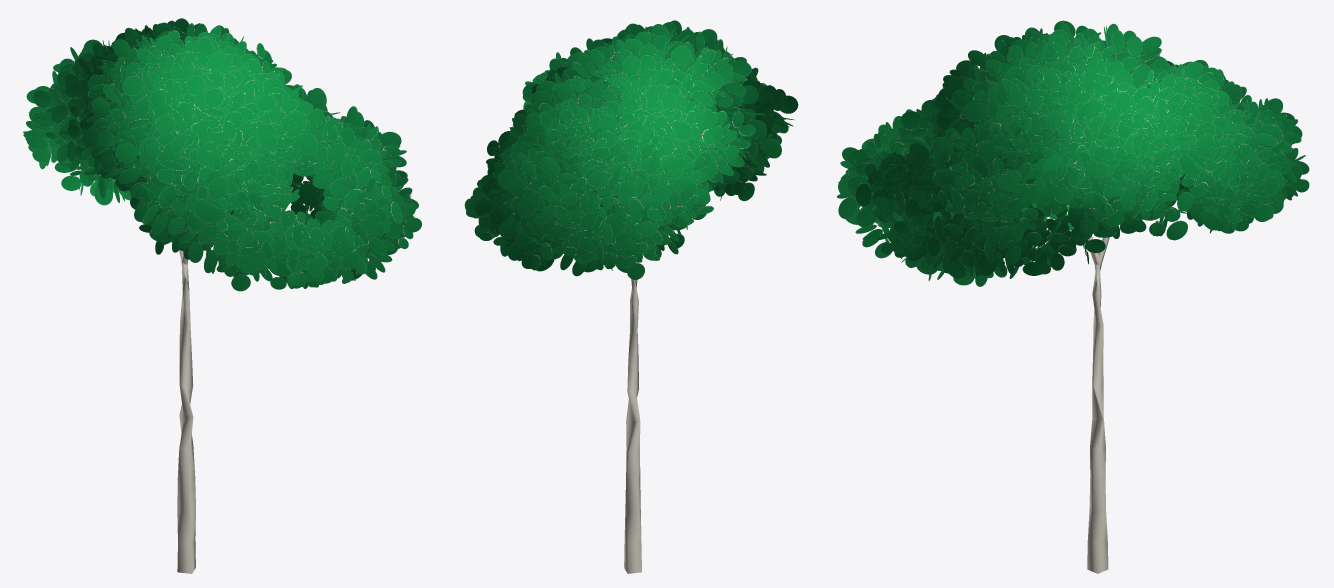
File: Tree-2.fbx
The picture shows the model from 3 angles, left to right: view 1: azimuth 30°, elevation 25°; view 2: azimuth 150°, elevation 25°; view 3: azimuth 270°, elevation 25°; orthographic projection. The views are drawn at different scales.
Visible parts, largest first — view 1: Leaves, Trunk; view 2: Leaves, Trunk; view 3: Leaves, Trunk.
Part boxes in pixels (x1,y1,x2,y2): Leaves: (23,18,421,291); Trunk: (177,250,195,573); Leaves: (464,20,798,279); Trunk: (624,262,641,573); Leaves: (837,20,1309,286); Trunk: (1087,236,1109,573).
Bounding box in the file's own units: 300 × 565 × 462.
